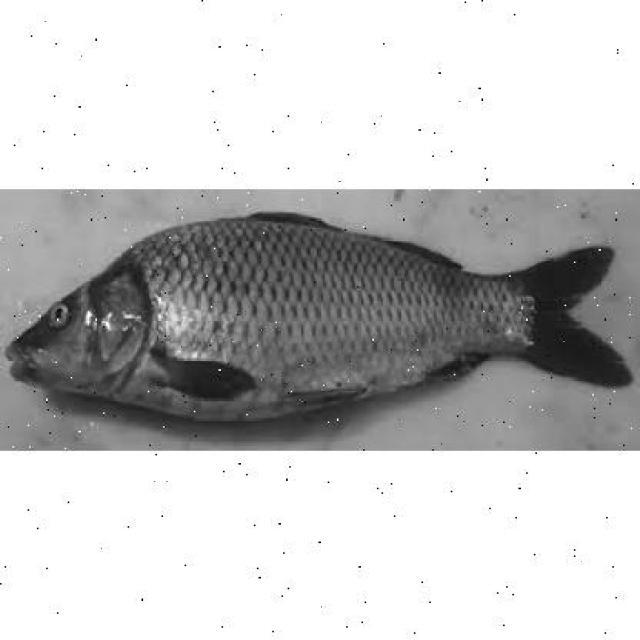ikan-mas: (5, 212, 608, 412)
